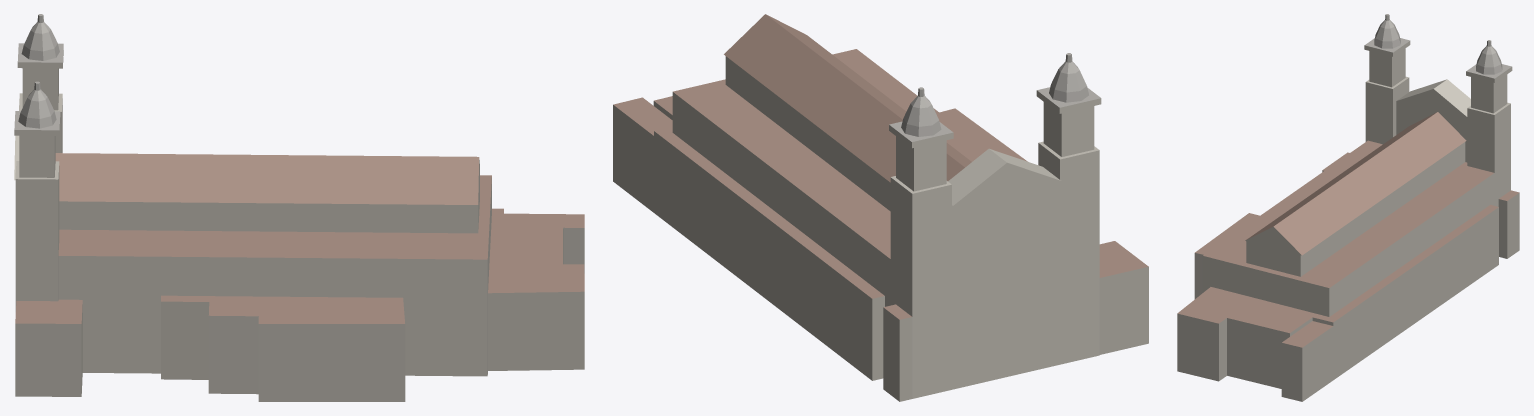
File: catedral-primada.glb
3 views of the same model, side by side, from view 1: azimuth 30°, elevation 25°; view 2: azimuth 150°, elevation 25°; view 3: azimuth 270°, elevation 25° (orthographic). The views are drawn at different scales.
Visible parts, largest first — view 1: catedral-primada; view 2: catedral-primada; view 3: catedral-primada.
Part boxes in pixels (x1,y1,x2,y2): catedral-primada: (14, 14, 584, 401); catedral-primada: (613, 14, 1148, 401); catedral-primada: (1177, 14, 1519, 401).
Bounding box in the file's own units: 116 × 58 × 85.87.
